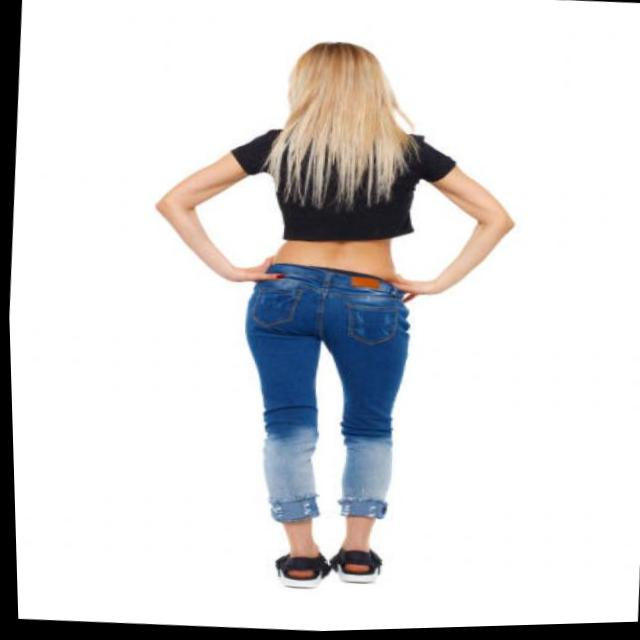no helmet: (278, 35, 403, 123)
